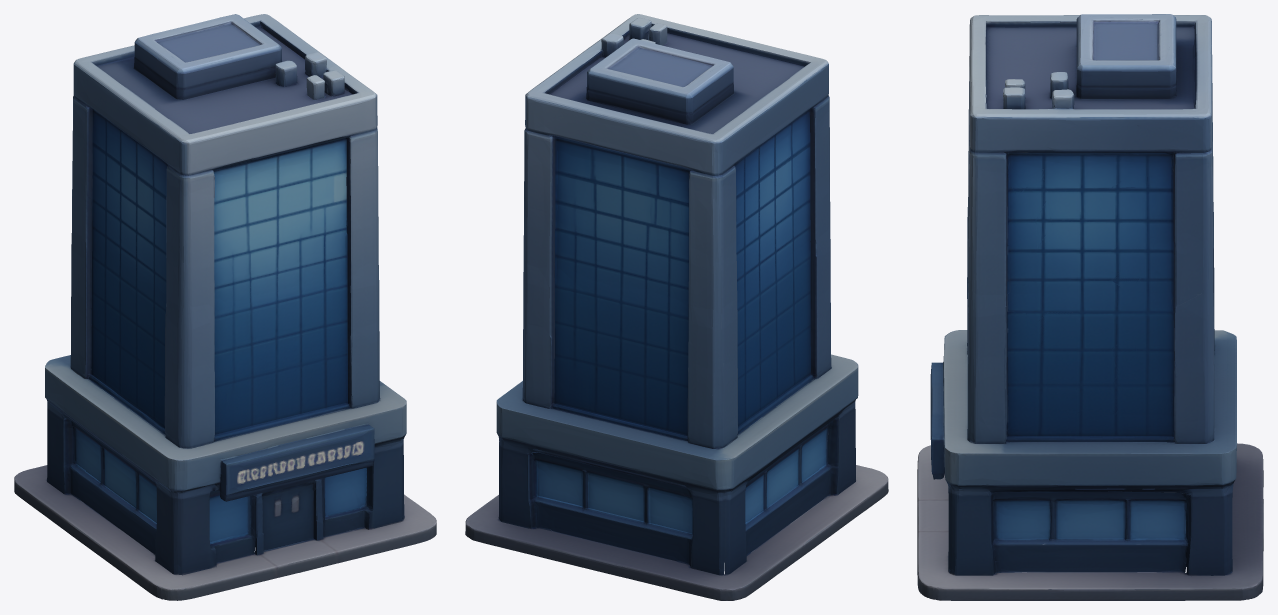
The model's file is office.glb.
The picture shows the model from 3 angles, left to right: view 1: azimuth 30°, elevation 25°; view 2: azimuth 150°, elevation 25°; view 3: azimuth 270°, elevation 25°; orthographic projection. The views are drawn at different scales.
Parts seen in each view (by area): view 1: world; view 2: world; view 3: world.
Part boxes in pixels (x1=…): world: x1=14, y1=14, x2=436, y2=600; world: x1=465, y1=14, x2=888, y2=600; world: x1=917, y1=14, x2=1263, y2=600.
Size of the model in its own units: 0.6428 by 1 by 0.6434.
1 material, 1 textured.
